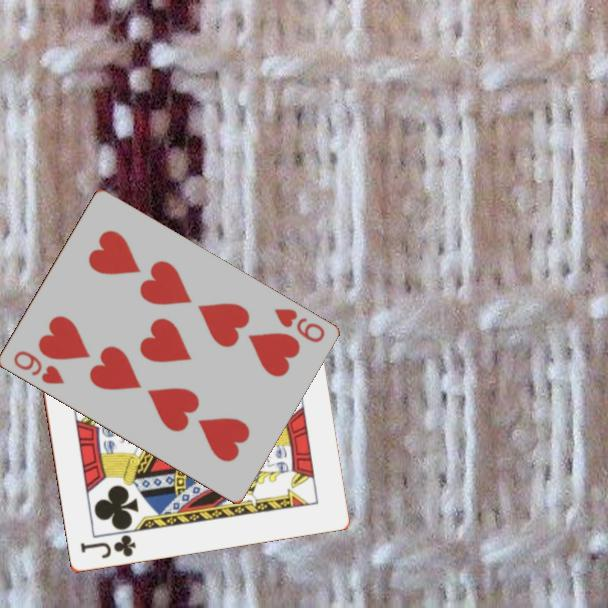c11: (76, 532, 138, 562)
h09: (270, 305, 327, 346), (10, 347, 67, 387)
